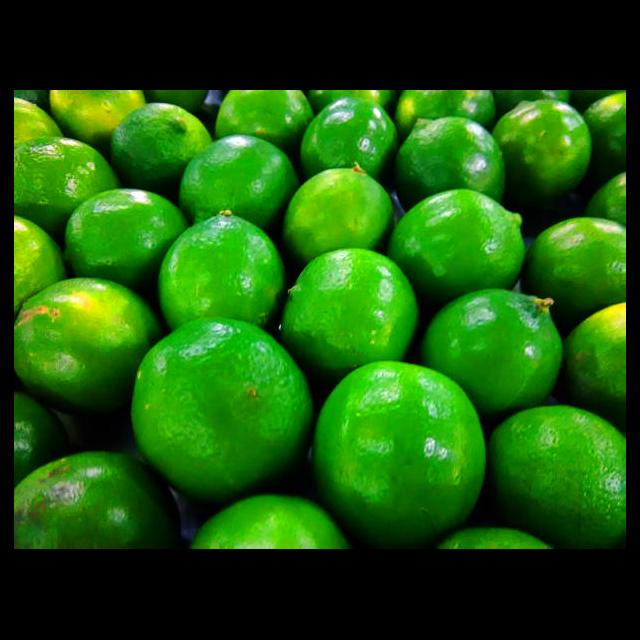lime: (129, 320, 314, 508), (312, 362, 488, 550)
